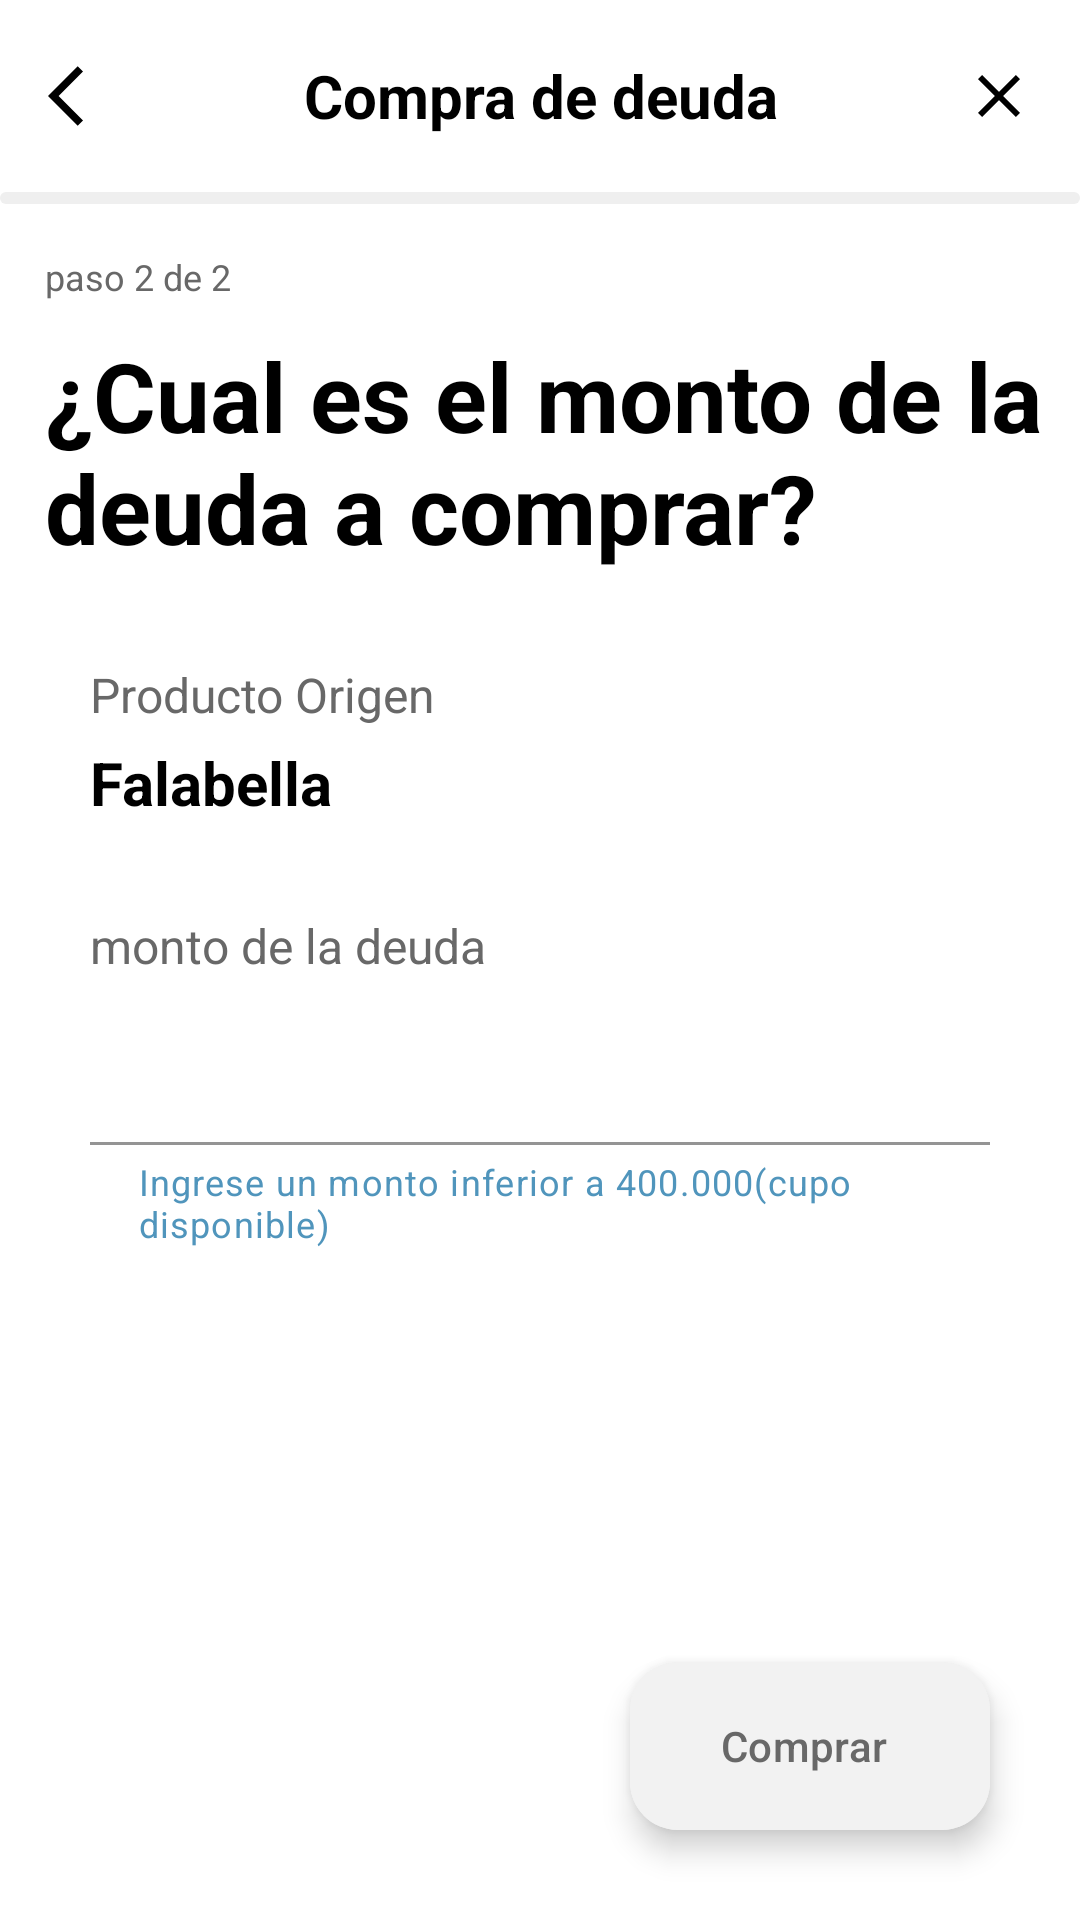

Point at icon controls on the screen. Image size 1080 × 1920, points as (x=x, y=y).
arrow back: (x=65, y=96)
close: (x=999, y=96)
